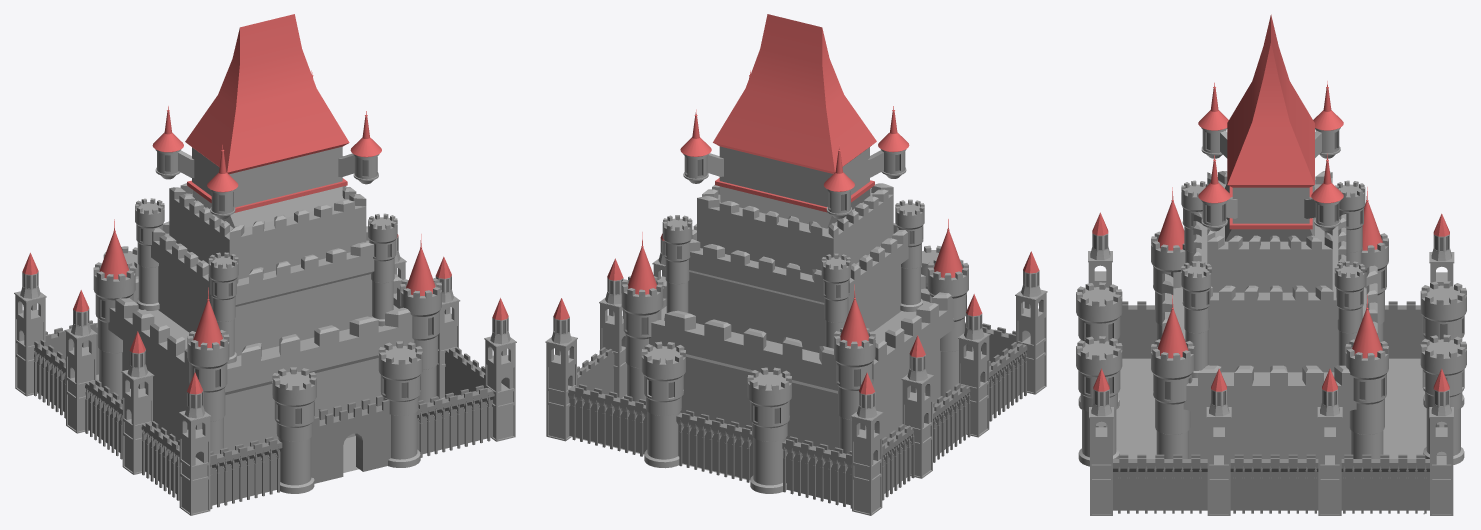
The model's file is snow_white_castle.fbx.
3 renders of one model, left to right at view 1: azimuth 30°, elevation 25°; view 2: azimuth 150°, elevation 25°; view 3: azimuth 270°, elevation 25°, orthographic. The views are drawn at different scales.
Parts seen in each view (by area): view 1: castle; view 2: castle; view 3: castle.
Boxes of the visible parts, left/top/right/bottom form: castle: left=14, top=14, right=516, bottom=515; castle: left=545, top=14, right=1047, bottom=515; castle: left=1076, top=14, right=1466, bottom=515.
Bounding box in the file's own units: 1095 × 1255 × 1093.
